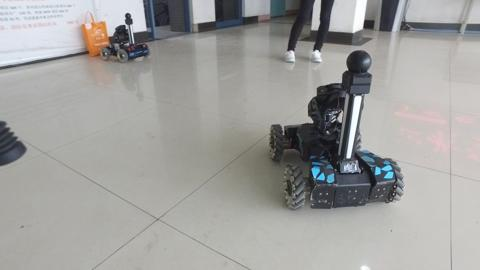bag: (79, 9, 111, 57)
chariot: (268, 49, 404, 210), (99, 11, 151, 63)
